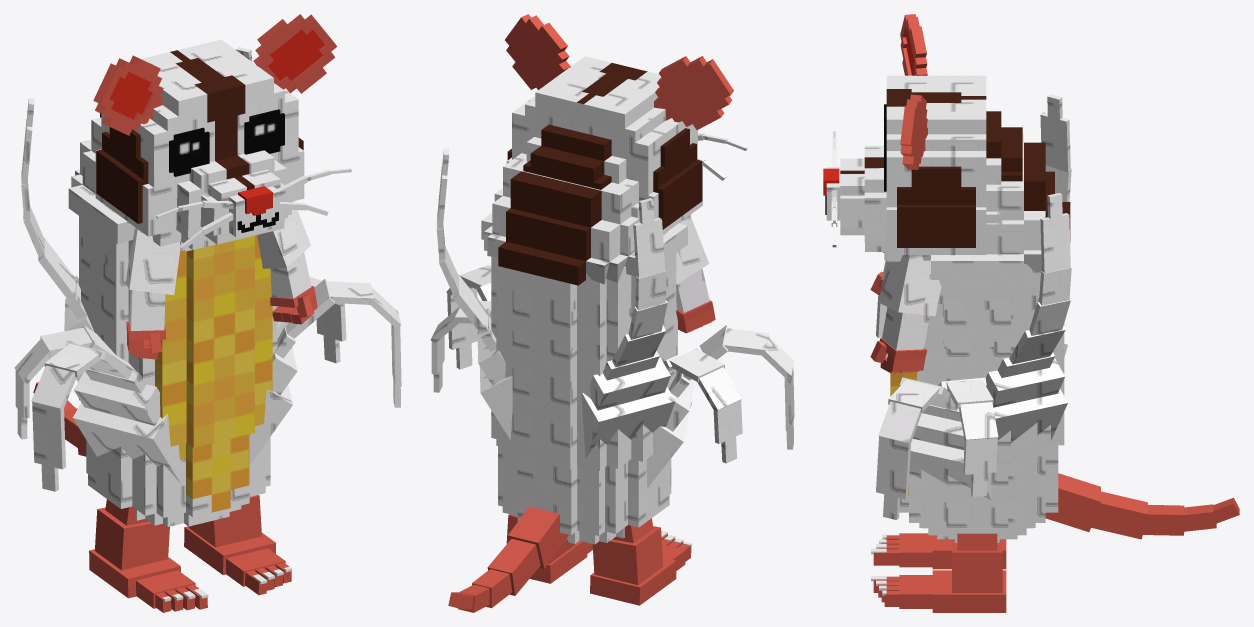
File: Pipi Corni.obj
The picture shows the model from 3 angles, left to right: view 1: azimuth 30°, elevation 25°; view 2: azimuth 150°, elevation 25°; view 3: azimuth 270°, elevation 25°; orthographic projection. The views are drawn at different scales.
Visible parts, largest first — view 1: Cylinder1, Cube0041, Cube0191, Cylinder0011, Cube0141, Cube0181, Cylinder0031, Cylinder0041, Cube0011, Cube0061, Cube0171, Cube0031 (+1 smaller); view 2: Cylinder0011, Cube0191, Cube0041, Cube0141, Cylinder0031, Cube0011, Cylinder0041, Cube0181, Cube0171; view 3: Cube0041, Cube0191, Cylinder0011, Cube0141, Cube0181, Cube0011, Cylinder0031, Cylinder0041, Cube0171, Cylinder1, Cube0031.
Boxes of the visible parts, x1,y1,x2,y2 form: Cylinder1: (155,109,284,512); Cube0041: (68,39,310,294); Cube0191: (33,14,337,612); Cylinder0011: (64,275,297,526); Cube0141: (96,50,303,223); Cube0181: (15,47,401,491); Cylinder0031: (23,206,373,377); Cylinder0041: (38,238,334,378); Cube0011: (14,171,401,410); Cube0061: (110,29,324,215); Cube0171: (125,218,311,330); Cube0031: (156,168,351,250); Cylinder0011: (477,308,695,544); Cube0191: (448,14,733,612); Cube0041: (481,56,709,284); Cube0141: (498,63,702,285); Cylinder0031: (439,246,768,382); Cube0011: (430,215,794,412); Cylinder0041: (453,274,729,390); Cube0181: (431,148,794,463); Cube0171: (676,252,709,312); Cube0041: (826,75,1045,314); Cube0191: (870,14,1239,612); Cylinder0011: (899,344,1067,542); Cube0141: (840,89,1070,247); Cube0181: (876,94,1070,519); Cube0011: (878,165,1071,444); Cylinder0031: (888,203,1070,412); Cylinder0041: (900,325,1065,410); Cube0171: (840,227,941,350); Cylinder1: (825,104,1025,495); Cube0031: (831,131,837,247).
Bounding box in the file's own units: 4.27 × 6.12 × 4.44.
Materials: 13 (10 with a texture image).
